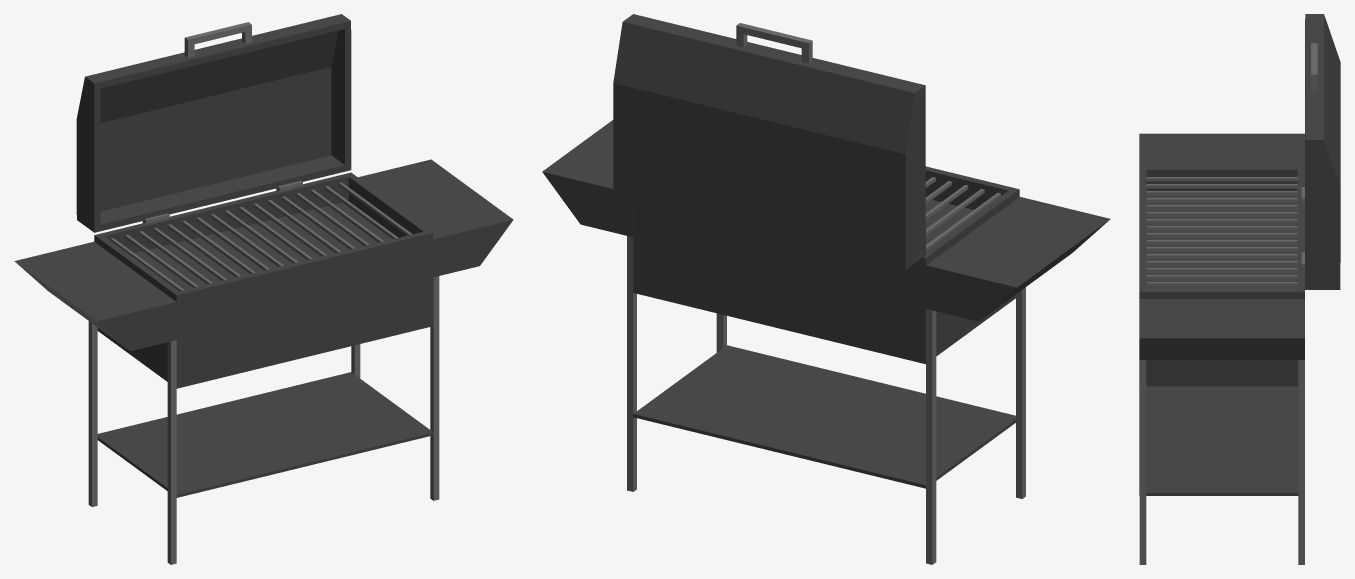
File: Grill_01.fbx
The picture shows the model from 3 angles, left to right: view 1: azimuth 30°, elevation 25°; view 2: azimuth 150°, elevation 25°; view 3: azimuth 270°, elevation 25°; orthographic projection. The views are drawn at different scales.
Visible parts, largest first — view 1: Grill_01, Grill_01_02; view 2: Grill_01, Grill_01_02; view 3: Grill_01, Grill_01_02.
Part boxes in pixels (x1,y1,x2,y2): Grill_01: (14,159,513,564); Grill_01_02: (76,14,351,232); Grill_01: (542,120,1110,564); Grill_01_02: (613,14,925,269); Grill_01: (1139,133,1304,564); Grill_01_02: (1305,14,1340,289).
Bounding box in the file's own units: 146 × 147 × 60.71.
